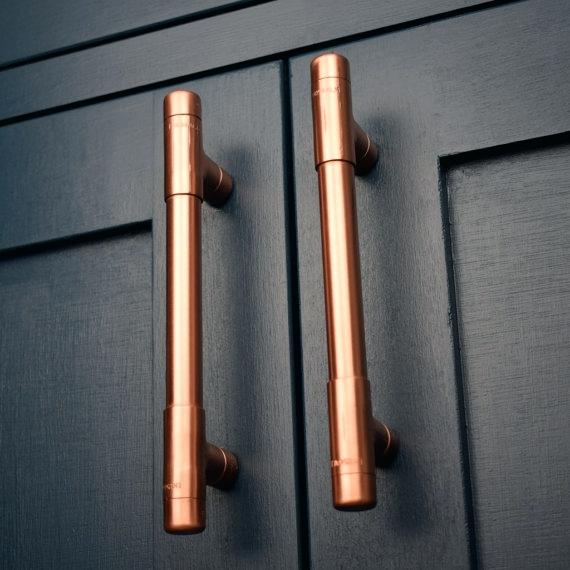cabinet door: (296, 54, 570, 570), (12, 98, 285, 551)
handle: (290, 50, 405, 506), (142, 82, 238, 544)
